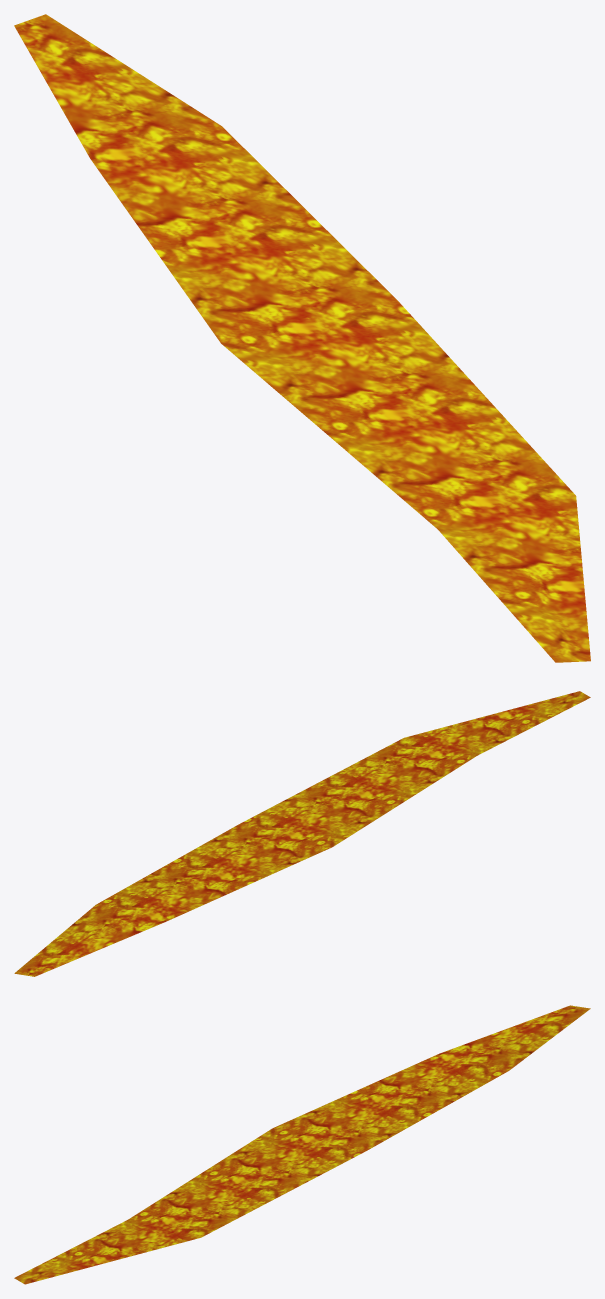
The picture shows the model from 3 angles, top to bottom: view 1: azimuth 30°, elevation 25°; view 2: azimuth 150°, elevation 25°; view 3: azimuth 330°, elevation 25°; orthographic projection. The views are drawn at different scales.
Visible parts, largest first — view 1: Object04; view 2: Object04; view 3: Object04.
Part boxes in pixels (x1=…): Object04: x1=14, y1=14, x2=590, y2=662; Object04: x1=14, y1=691, x2=590, y2=976; Object04: x1=14, y1=1005, x2=590, y2=1284.
Size of the model in its own units: 4720 by 155 by 21990.
1 material, 1 textured.
